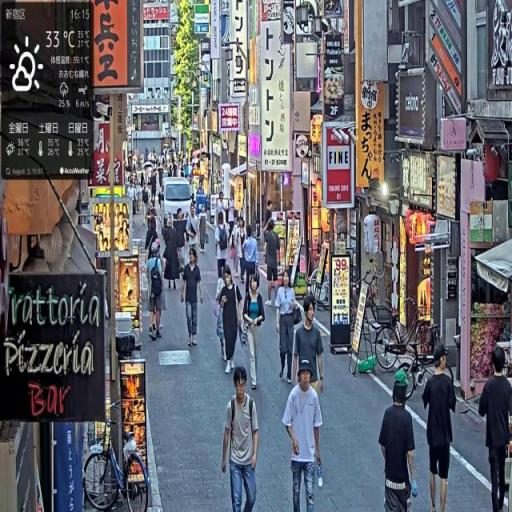person: (283, 361, 325, 511), (221, 364, 262, 512), (377, 371, 419, 512), (423, 343, 458, 512), (478, 348, 512, 512), (294, 297, 327, 396), (242, 272, 267, 393), (215, 266, 243, 374), (275, 270, 301, 385), (181, 248, 205, 351), (148, 244, 167, 343), (264, 218, 283, 312), (163, 216, 183, 295), (216, 215, 231, 285)
